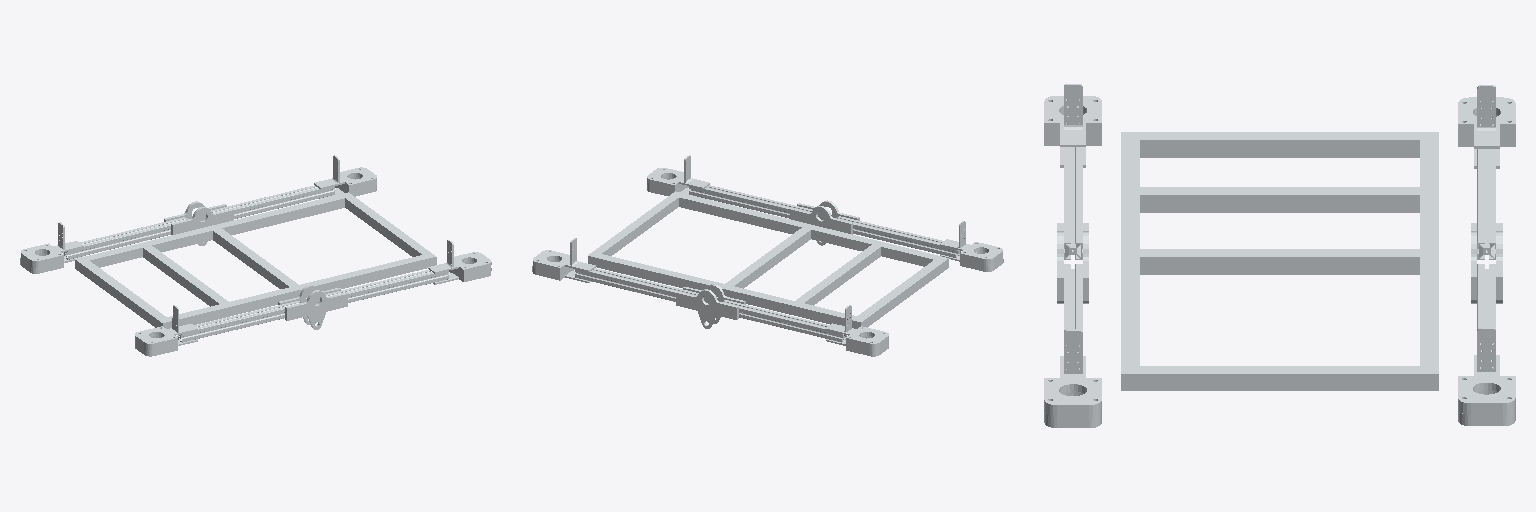
robot.urdf — irc_rover:
<?xml version="1.0" ?>
<!-- This URDF was automatically created by SolidWorks to URDF Exporter! Originally created by [author] ([email redacted]) 
     Commit Version: 1.6.0-4-g7f85cfe  Build Version: 1.6.7995.38578
     For more information, please see http://wiki.ros.org/sw_urdf_exporter -->
<robot
  name="irc_rover">
  <link name="base_footprint"/>
  <joint name="base_joint" type="fixed">
    <parent link="base_footprint" />
    <child link="base_link" />
    <origin xyz="0 0 0.3" rpy="1.5708 0 0"/>
  </joint>


  <link
    name="base_link">
    <inertial>
      <origin
        xyz="0.0209890602570742 0.0153425997720421 2.25514051876985E-16"
        rpy="0 0 0" />
      <mass
        value="22.8192949375364" />
      <inertia
        ixx="0.321103670975596"
        ixy="0.00012638519920185"
        ixz="2.13223588701876E-16"
        iyy="1.11160267928444"
        iyz="1.29243105395964E-18"
        izz="0.797683009468964" />
    </inertial>
    <visual>
      <origin
        xyz="0 0 0"
        rpy="0 0 0" />
      <geometry>
        <mesh
          filename="package://irc_rover/meshes/base_link.STL" />
      </geometry>
      <material
        name="">
        <color
          rgba="0.898039215686275 0.917647058823529 0.929411764705882 1" />
      </material>
    </visual>
    <collision>
      <origin
        xyz="0 0 0"
        rpy="0 0 0" />
      <geometry>
        <mesh
          filename="package://irc_rover/meshes/base_link.STL" />
      </geometry>
    </collision>
  </link>
  <link
    name="wheel_fl_steering_Link">
    <inertial>
      <origin
        xyz="-0.00130366065961829 -0.166762803329161 -0.00185935934092646"
        rpy="0 0 0" />
      <mass
        value="6.88142641499053" />
      <inertia
        ixx="0.0327353564213328"
        ixy="0.000204492603441019"
        ixz="-4.32965852222651E-05"
        iyy="0.0216267845601606"
        iyz="-0.00112034325716438"
        izz="0.0338427210309354" />
    </inertial>
    <visual>
      <origin
        xyz="0 0 0"
        rpy="0 0 0" />
      <geometry>
        <mesh
          filename="package://irc_rover/meshes/wheel_fl_steering_Link.STL" />
      </geometry>
      <material
        name="">
        <color
          rgba="0.698039215686274 0.698039215686274 0.698039215686274 1" />
      </material>
    </visual>
    <collision>
      <origin
        xyz="0 0 0"
        rpy="0 0 0" />
      <geometry>
        <mesh
          filename="package://irc_rover/meshes/wheel_fl_steering_Link.STL" />
      </geometry>
    </collision>
  </link>
  <joint
    name="wheel_fl_steering_joint"
    type="revolute">
    <origin
      xyz="0.54660154562232 0.0449800000000009 -0.325038580560593"
      rpy="3.14159265358979 0 3.14159265358979" />
    <parent
      link="base_link" />
    <child
      link="wheel_fl_steering_Link" />
    <axis
      xyz="0 1 0" />
    <limit
      lower="-0.6"
      upper="+0.6"
      effort="100"
      velocity="50" />
  </joint>
  <link
    name="wheel_fl_Link">
    <inertial>
      <origin
        xyz="-4.62370847276183E-07 1.04393291150418E-07 0.000974447677025259"
        rpy="0 0 0" />
      <mass
        value="3.47785060865596" />
      <inertia
        ixx="0.0114379526679739"
        ixy="-2.40820305633184E-09"
        ixz="6.22715020585744E-09"
        iyy="0.0114379425454636"
        iyz="-1.40595467977406E-09"
        izz="0.0215020567472781" />
    </inertial>
    <visual>
      <origin
        xyz="0 0 0"
        rpy="0 0 0" />
      <geometry>
        <mesh
          filename="package://irc_rover/meshes/wheel_fl_Link.STL" />
      </geometry>
      <material
        name="">
        <color
          rgba="0.752941176470588 0.752941176470588 0.752941176470588 1" />
      </material>
    </visual>
    <collision>
      <origin
        xyz="0 0 0"
        rpy="0 0 0" />
      <geometry>
        <mesh
          filename="package://irc_rover/meshes/wheel_fl_Link.STL" />
      </geometry>
    </collision>
  </link>
  <joint
    name="wheel_fl_joint"
    type="continuous">
    <origin
      xyz="-0.00105904340485075 -0.230000000000024 0.00177808874919655"
      rpy="-3.14159265358979 0.0390248990666281 -3.14159265358979" />
    <parent
      link="wheel_fl_steering_Link" />
    <child
      link="wheel_fl_Link" />
    <axis
      xyz="0 0 -1" />
  </joint>
  <link
    name="wheel_fr_steering_Link">
    <inertial>
      <origin
        xyz="0.000422407695307214 -0.166767881640785 0.00265979265819821"
        rpy="0 0 0" />
      <mass
        value="6.88142646356561" />
      <inertia
        ixx="0.0327314663655411"
        ixy="-0.000224076642356098"
        ixz="6.4360755593318E-06"
        iyy="0.0216289844023426"
        iyz="0.00112745447910636"
        izz="0.0338444113542049" />
    </inertial>
    <visual>
      <origin
        xyz="0 0 0"
        rpy="0 0 0" />
      <geometry>
        <mesh
          filename="package://irc_rover/meshes/wheel_fr_steering_Link.STL" />
      </geometry>
      <material
        name="">
        <color
          rgba="0.698039215686274 0.698039215686274 0.698039215686274 1" />
      </material>
    </visual>
    <collision>
      <origin
        xyz="0 0 0"
        rpy="0 0 0" />
      <geometry>
        <mesh
          filename="package://irc_rover/meshes/wheel_fr_steering_Link.STL" />
      </geometry>
    </collision>
  </link>
  <joint
    name="wheel_fr_steering_joint"
    type="revolute">
    <origin
      xyz="0.546649444505055 0.0420502845255973 0.325000000000001"
      rpy="0 0 0" />
    <parent
      link="base_link" />
    <child
      link="wheel_fr_steering_Link" />
    <axis
      xyz="0.00571351375888634 0.999983677747056 0" />
    <limit
      lower="-0.6"
      upper="+0.6"
      effort="100"
      velocity="50" />
  </joint>
  <link
    name="wheel_fr_Link">
    <inertial>
      <origin
        xyz="-4.22006113720563E-07 -2.15860140345692E-07 0.000974447677030477"
        rpy="0 0 0" />
      <mass
        value="3.47785060865595" />
      <inertia
        ixx="0.0114379508869507"
        ixy="4.54486785300023E-09"
        ixz="5.68352325087762E-09"
        iyy="0.0114379443264868"
        iyz="2.90717616976372E-09"
        izz="0.0215020567472781" />
    </inertial>
    <visual>
      <origin
        xyz="0 0 0"
        rpy="0 0 0" />
      <geometry>
        <mesh
          filename="package://irc_rover/meshes/wheel_fr_Link.STL" />
      </geometry>
      <material
        name="">
        <color
          rgba="0.752941176470588 0.752941176470588 0.752941176470588 1" />
      </material>
    </visual>
    <collision>
      <origin
        xyz="0 0 0"
        rpy="0 0 0" />
      <geometry>
        <mesh
          filename="package://irc_rover/meshes/wheel_fr_Link.STL" />
      </geometry>
    </collision>
  </link>
  <joint
    name="wheel_fr_joint"
    type="continuous">
    <origin
      xyz="-0.000325259351636298 -0.230001895775344 0.00181805352983661"
      rpy="3.14159265358979 0 -0.00571354484489584" />
    <parent
      link="wheel_fr_steering_Link" />
    <child
      link="wheel_fr_Link" />
    <axis
      xyz="0.0390143575604397 -0.000222912707099175 0.999238625261289" />
  </joint>
  <link
    name="wheel_bl_steering_Link">
    <inertial>
      <origin
        xyz="0.00140152431418344 -0.166762835217298 -0.00178674584964172"
        rpy="0 0 0" />
      <mass
        value="6.88142641499053" />
      <inertia
        ixx="0.0327339050753973"
        ixy="-0.000144094783823801"
        ixz="-1.62729670289578E-05"
        iyy="0.0216267841015325"
        iyz="-0.00112970098240106"
        izz="0.0338441728354989" />
    </inertial>
    <visual>
      <origin
        xyz="0 0 0"
        rpy="0 0 0" />
      <geometry>
        <mesh
          filename="package://irc_rover/meshes/wheel_bl_steering_Link.STL" />
      </geometry>
      <material
        name="">
        <color
          rgba="0.698039215686274 0.698039215686274 0.698039215686274 1" />
      </material>
    </visual>
    <collision>
      <origin
        xyz="0 0 0"
        rpy="0 0 0" />
      <geometry>
        <mesh
          filename="package://irc_rover/meshes/wheel_bl_steering_Link.STL" />
      </geometry>
    </collision>
  </link>
  <joint
    name="wheel_bl_steering_joint"
    type="revolute">
    <origin
      xyz="-0.478881250359994 0.044980000000001 -0.324985516803047"
      rpy="3.14159265358979 0 3.14159265358979" />
    <parent
      link="base_link" />
    <child
      link="wheel_bl_steering_Link" />
    <axis
      xyz="0 1 0" />
    <limit
      lower="-0.6"
      upper="+0.6"
      effort="100"
      velocity="50" />
  </joint>
  <link
    name="wheel_bl_Link">
    <inertial>
      <origin
        xyz="4.72206770574246E-07 4.12980136199614E-08 0.000974447677029588"
        rpy="0 0 0" />
      <mass
        value="3.47785060865596" />
      <inertia
        ixx="0.0114379531266019"
        ixy="9.72952032571281E-10"
        ixz="-6.35961913537345E-09"
        iyy="0.0114379420868356"
        iyz="-5.56196244766212E-10"
        izz="0.0215020567472781" />
    </inertial>
    <visual>
      <origin
        xyz="0 0 0"
        rpy="0 0 0" />
      <geometry>
        <mesh
          filename="package://irc_rover/meshes/wheel_bl_Link.STL" />
      </geometry>
      <material
        name="">
        <color
          rgba="0.752941176470588 0.752941176470588 0.752941176470588 1" />
      </material>
    </visual>
    <collision>
      <origin
        xyz="0 0 0"
        rpy="0 0 0" />
      <geometry>
        <mesh
          filename="package://irc_rover/meshes/wheel_bl_Link.STL" />
      </geometry>
    </collision>
  </link>
  <joint
    name="wheel_bl_joint"
    type="continuous">
    <origin
      xyz="0.000962131156877044 -0.230000000000005 0.0018323417176952"
      rpy="3.14159265358979 0.014646807696397 3.14159265358979" />
    <parent
      link="wheel_bl_steering_Link" />
    <child
      link="wheel_bl_Link" />
    <axis
      xyz="0 -2.59879529529562E-05 -0.999999999662313" />
  </joint>
  <link
    name="wheel_br_steering_Link">
    <inertial>
      <origin
        xyz="-0.00232842449136678 -0.16675240545248 0.0026597926506825"
        rpy="0 0 0" />
      <mass
        value="6.8814263899123" />
      <inertia
        ixx="0.0327351362928873"
        ixy="9.71606505408953E-05"
        ixz="6.43636832134732E-06"
        iyy="0.0216253144294474"
        iyz="0.00112744806314421"
        izz="0.0338444112846986" />
    </inertial>
    <visual>
      <origin
        xyz="0 0 0"
        rpy="0 0 0" />
      <geometry>
        <mesh
          filename="package://irc_rover/meshes/wheel_br_steering_Link.STL" />
      </geometry>
      <material
        name="">
        <color
          rgba="0.698039215686274 0.698039215686274 0.698039215686274 1" />
      </material>
    </visual>
    <collision>
      <origin
        xyz="0 0 0"
        rpy="0 0 0" />
      <geometry>
        <mesh
          filename="package://irc_rover/meshes/wheel_br_steering_Link.STL" />
      </geometry>
    </collision>
  </link>
  <joint
    name="wheel_br_steering_joint"
    type="revolute">
    <origin
      xyz="-0.478815754336701 0.0479093896822361 0.325"
      rpy="0 0 0" />
    <parent
      link="base_link" />
    <child
      link="wheel_br_steering_Link" />
    <axis
      xyz="0.00571351375888773 0.999983677747056 0" />
    <limit
      lower="-0.6"
      upper="+0.6"
      effort="100"
      velocity="50" />
  </joint>
  <link
    name="wheel_br_Link">
    <inertial>
      <origin
        xyz="-3.98946257862409E-07 2.55981728147781E-07 0.000974447677030699"
        rpy="0 0 0" />
      <mass
        value="3.47785060865595" />
      <inertia
        ixx="0.0114379499424448"
        ixy="-5.09510836116974E-09"
        ixz="5.37295608669235E-09"
        iyy="0.0114379452709926"
        iyz="-3.44752849179766E-09"
        izz="0.0215020567472781" />
    </inertial>
    <visual>
      <origin
        xyz="0 0 0"
        rpy="0 0 0" />
      <geometry>
        <mesh
          filename="package://irc_rover/meshes/wheel_br_Link.STL" />
      </geometry>
      <material
        name="">
        <color
          rgba="0.752941176470588 0.752941176470588 0.752941176470588 1" />
      </material>
    </visual>
    <collision>
      <origin
        xyz="0 0 0"
        rpy="0 0 0" />
      <geometry>
        <mesh
          filename="package://irc_rover/meshes/wheel_br_Link.STL" />
      </geometry>
    </collision>
  </link>
  <joint
    name="wheel_br_joint"
    type="continuous">
    <origin
      xyz="-0.00230295697745109 -0.229990595988309 0.00181805352983638"
      rpy="3.14159265358979 0 0" />
    <parent
      link="wheel_br_steering_Link" />
    <child
      link="wheel_br_Link" />
    <axis
      xyz="0.0146462609517394 2.59879529530193E-05 0.99989273742975" />
  </joint>
  
</robot>

--- What the picture shows (computed from the rendered views, not written in the file) ---
The picture shows the robot from 3 angles, left to right: view 1: azimuth 30°, elevation 25°; view 2: azimuth 150°, elevation 25°; view 3: azimuth 270°, elevation 25°; orthographic projection.
Model irc_rover with 10 links and 9 joints (4 revolute, 4 continuous, 1 fixed), rooted at base_footprint, posed every joint at zero.
Links seen in each view (by area): view 1: base_link; view 2: base_link; view 3: base_link.
Link boxes in pixels (left/top/right/bottom): base_link: left=20, top=155, right=491, bottom=356; base_link: left=532, top=155, right=1003, bottom=356; base_link: left=1044, top=84, right=1515, bottom=427.
Size in the robot's own frame: 1.14 by 0.74 by 0.1676 metres.
Meshes: 9 distinct files referenced, 1 mesh visuals loaded (1 binary STL); not drawn: 8 (reference not matched to a file when rendering).